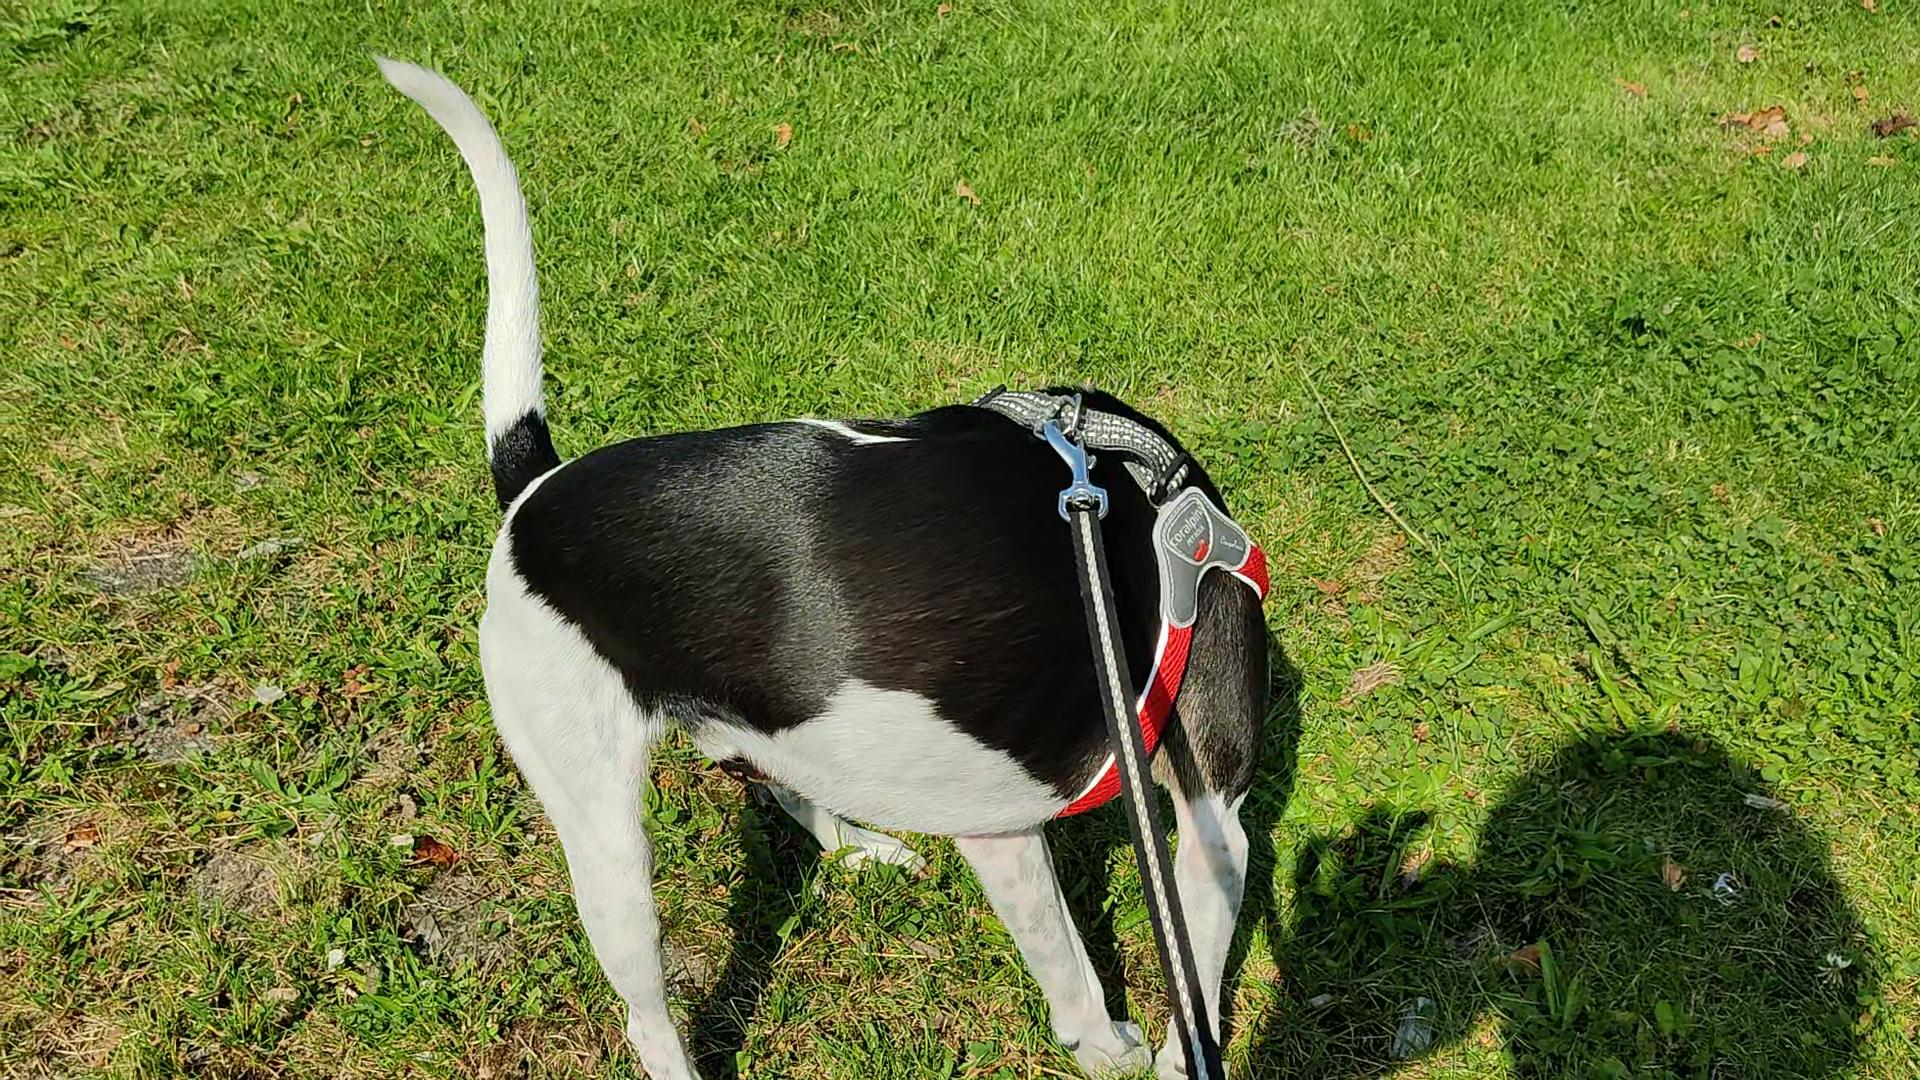Dog: (364, 49, 1280, 1079)
